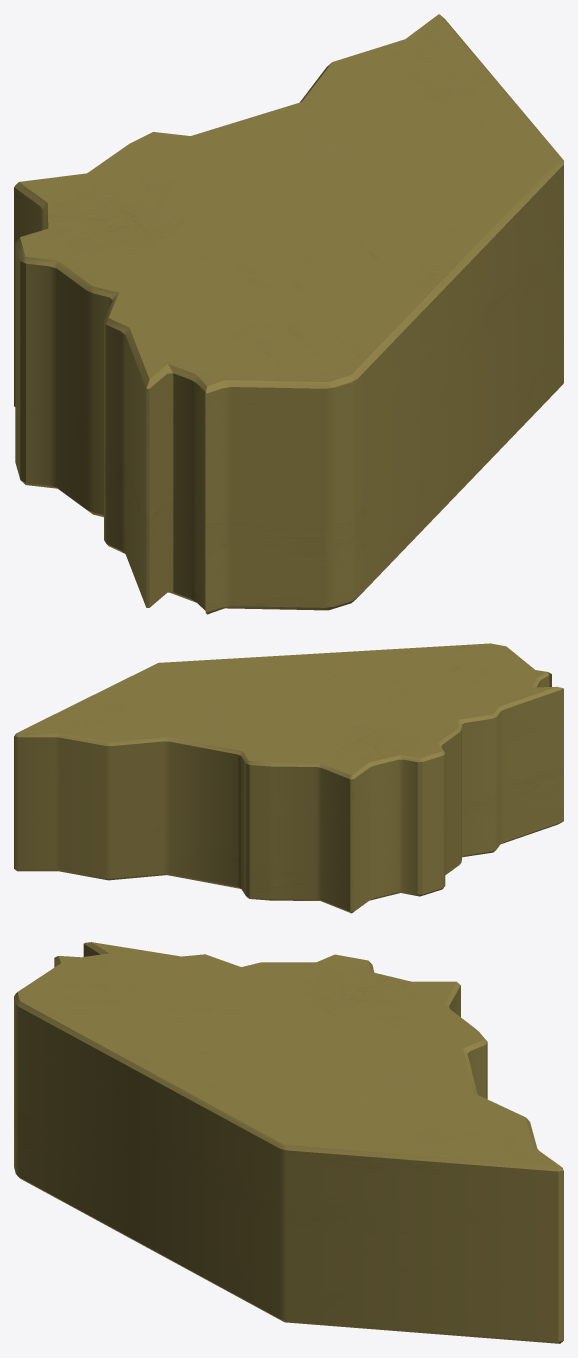
The model's file is syria.DAE.
3 views of the same model, one above another, from view 1: azimuth 30°, elevation 25°; view 2: azimuth 150°, elevation 25°; view 3: azimuth 270°, elevation 25° (orthographic). The views are drawn at different scales.
Visible parts, largest first — view 1: Syria; view 2: Syria; view 3: Syria.
Boxes of the visible parts, left/top/right/bottom form: Syria: left=14, top=14, right=563, bottom=614; Syria: left=14, top=643, right=563, bottom=913; Syria: left=14, top=942, right=563, bottom=1343.
Size of the model in its own units: 69.11 by 70.24 by 25.
Materials: 1 (1 with a texture image).
